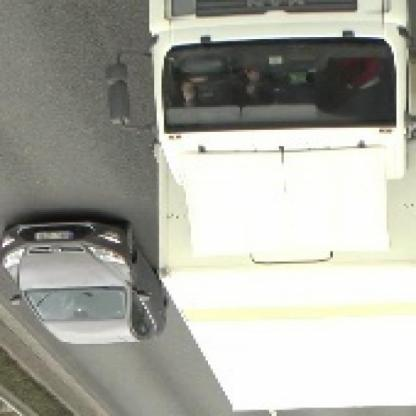truck: (114, 5, 415, 416)
